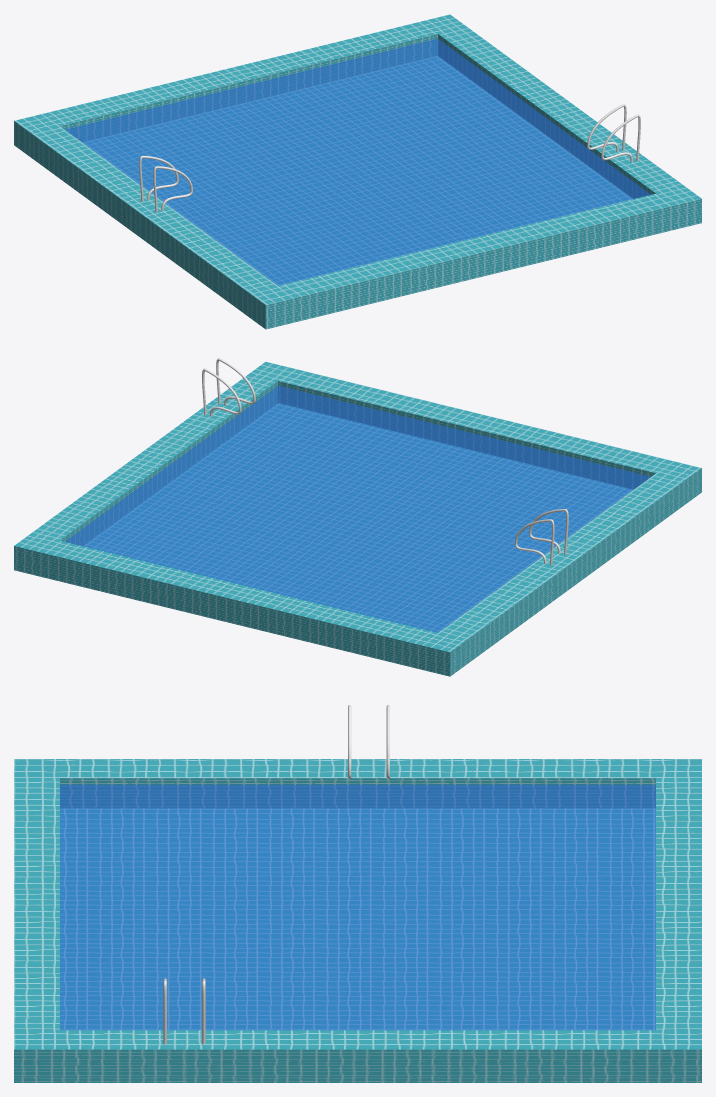
Rendered from pool.glb.
3 views of the same model, one above another, from view 1: azimuth 30°, elevation 25°; view 2: azimuth 150°, elevation 25°; view 3: azimuth 270°, elevation 25° (orthographic). The views are drawn at different scales.
Parts seen in each view (by area): view 1: Cube.001, Plane, Cube, BezierCurve.003, BezierCurve.001; view 2: Cube.001, Plane, Cube, BezierCurve.003, BezierCurve.001; view 3: Cube.001, Plane, Cube, BezierCurve.001.
Part boxes in pixels (x1,y1,x2,y2): Cube.001: (65, 38, 650, 285); Plane: (83, 56, 632, 285); Cube: (14, 14, 701, 329); BezierCurve.003: (587, 104, 640, 162); BezierCurve.001: (139, 155, 192, 212); Cube.001: (65, 386, 650, 632); Plane: (83, 403, 632, 632); Cube: (14, 361, 701, 676); BezierCurve.003: (202, 358, 255, 416); BezierCurve.001: (514, 509, 568, 565); Cube.001: (60, 784, 655, 1030); Plane: (60, 808, 655, 1029); Cube: (14, 759, 701, 1082); BezierCurve.001: (348, 705, 389, 779).
Bounding box in the file's own units: 10.85 × 1.67 × 10.85.
4 materials, 2 textured.
